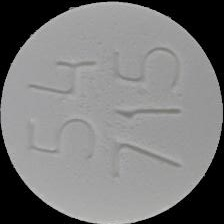0054-0112: (0, 0, 224, 224)
